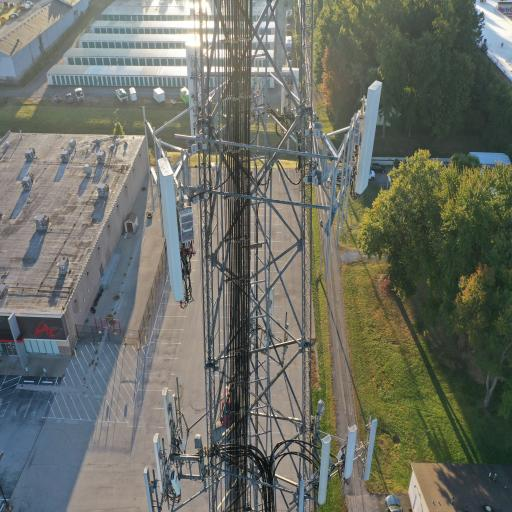supporting_tower: (124, 0, 407, 512)
